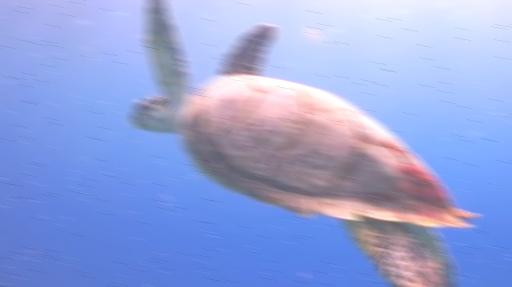Fish: (131, 0, 476, 286)
